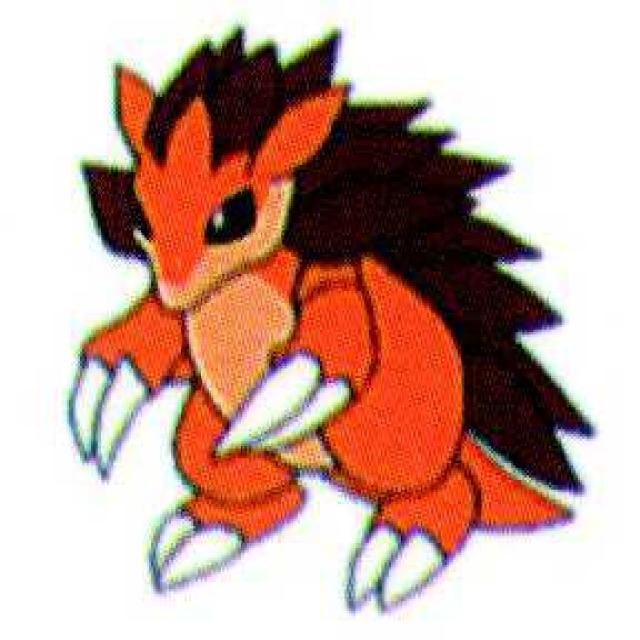Sandslash: (70, 38, 564, 589)
